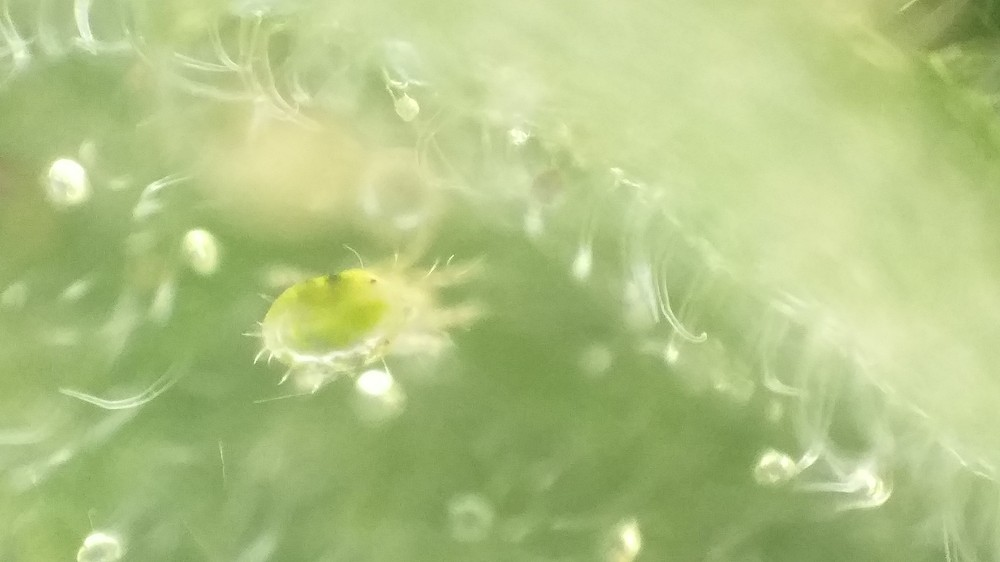Aracnido Rojo: (252, 227, 491, 393)
